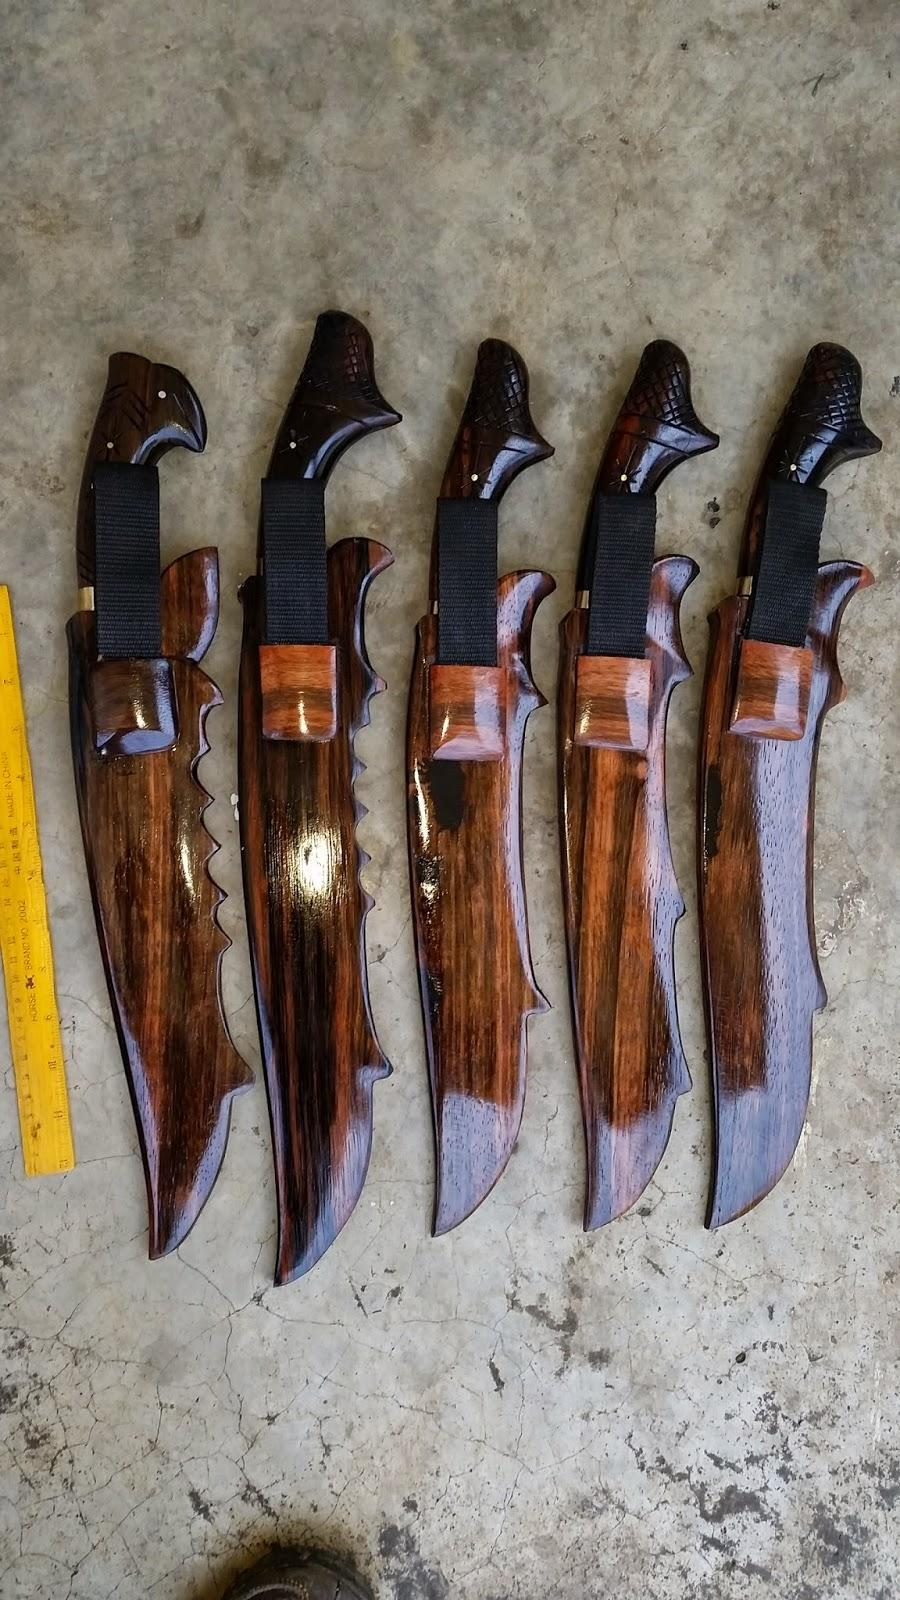facao: (688, 325, 880, 1218), (57, 345, 236, 1220), (395, 332, 535, 1252), (246, 300, 368, 1208), (548, 350, 676, 1210)
